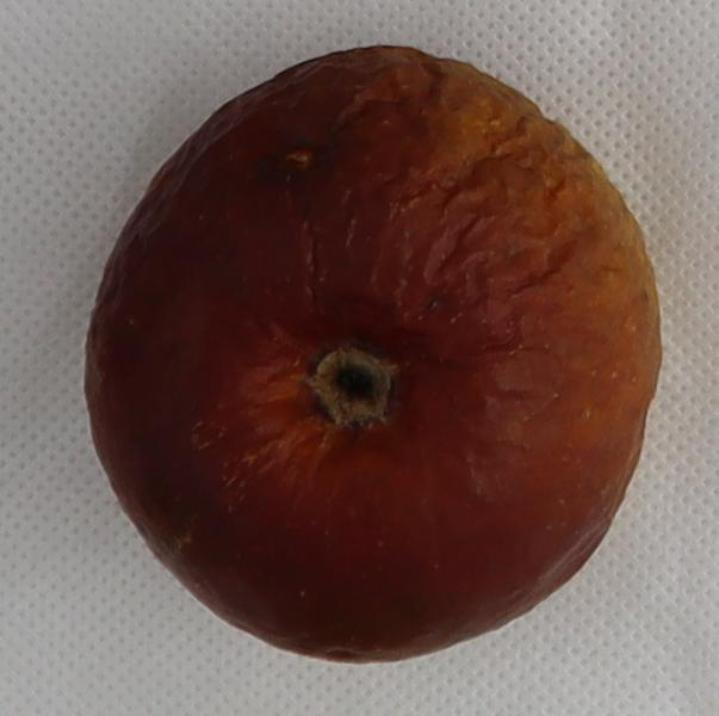apple: (86, 47, 660, 661)
rot_mold_decay: (86, 47, 660, 660)
